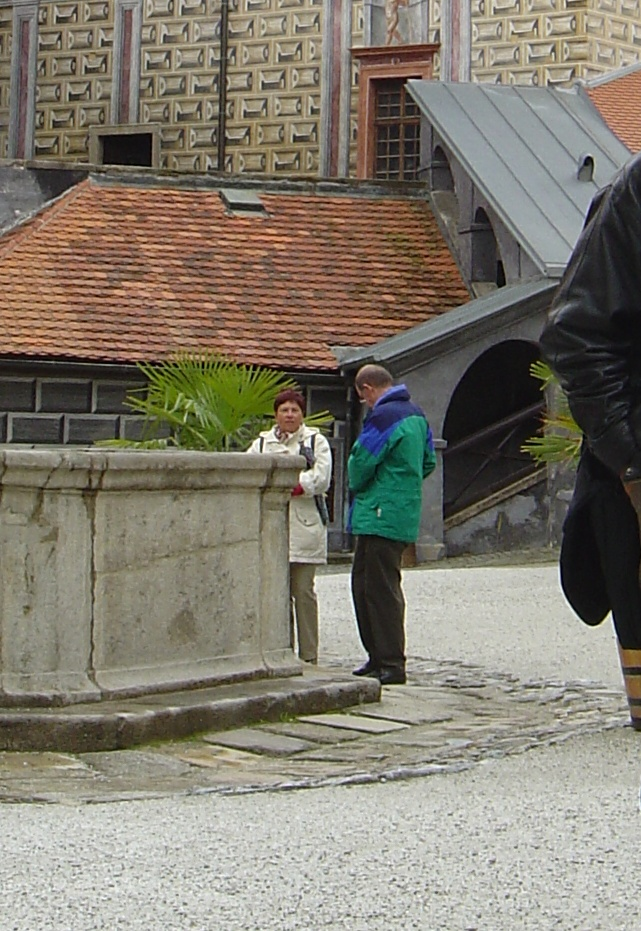person: (339, 362, 428, 685), (254, 386, 325, 663)
